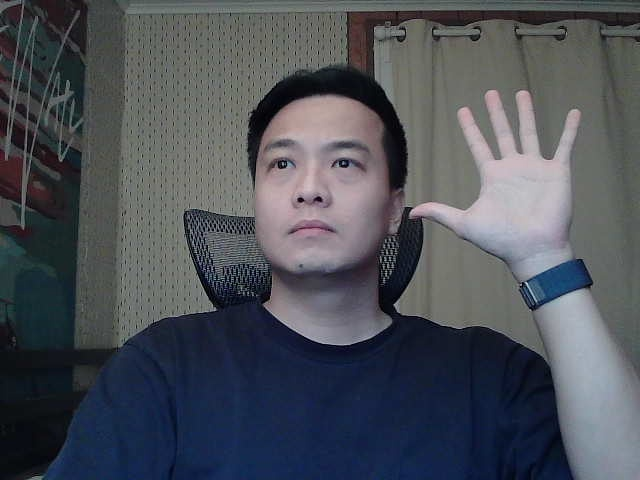Hello: (388, 82, 607, 292)
